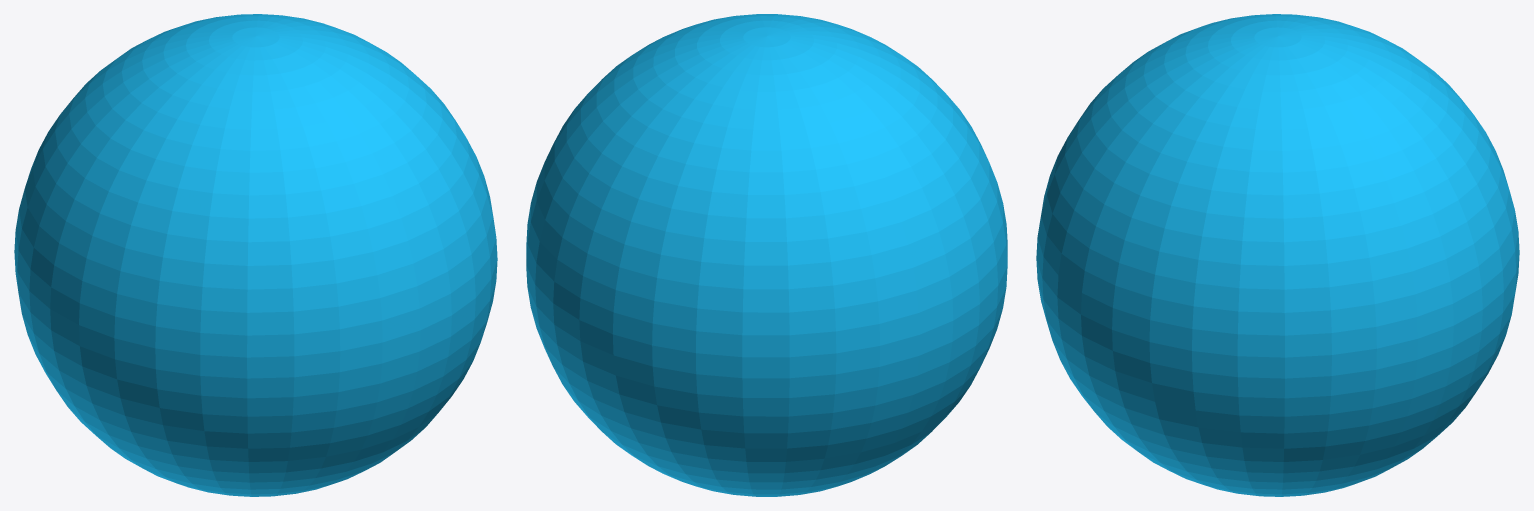
Rendered from sidekick-lod0.glb.
The picture shows the model from 3 angles, left to right: view 1: azimuth 30°, elevation 25°; view 2: azimuth 150°, elevation 25°; view 3: azimuth 270°, elevation 25°; orthographic projection.
Parts seen in each view (by area): view 1: Skybox; view 2: Skybox; view 3: Skybox.
Boxes of the visible parts, x1,y1,x2,y2 form: Skybox: (14,14,497,496); Skybox: (526,14,1007,496); Skybox: (1036,14,1519,496).
Bounding box in the file's own units: 0.0763 × 0.0763 × 0.0763.
Materials: 1 (1 with a texture image).
